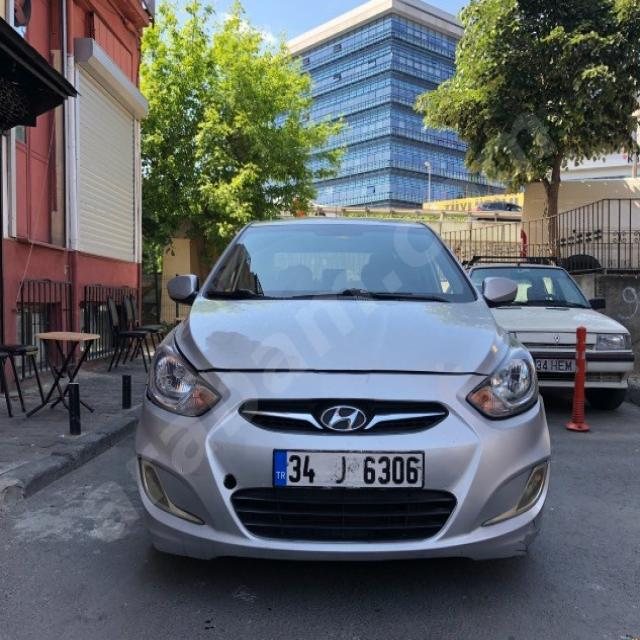license_plate: (273, 449, 425, 488)
